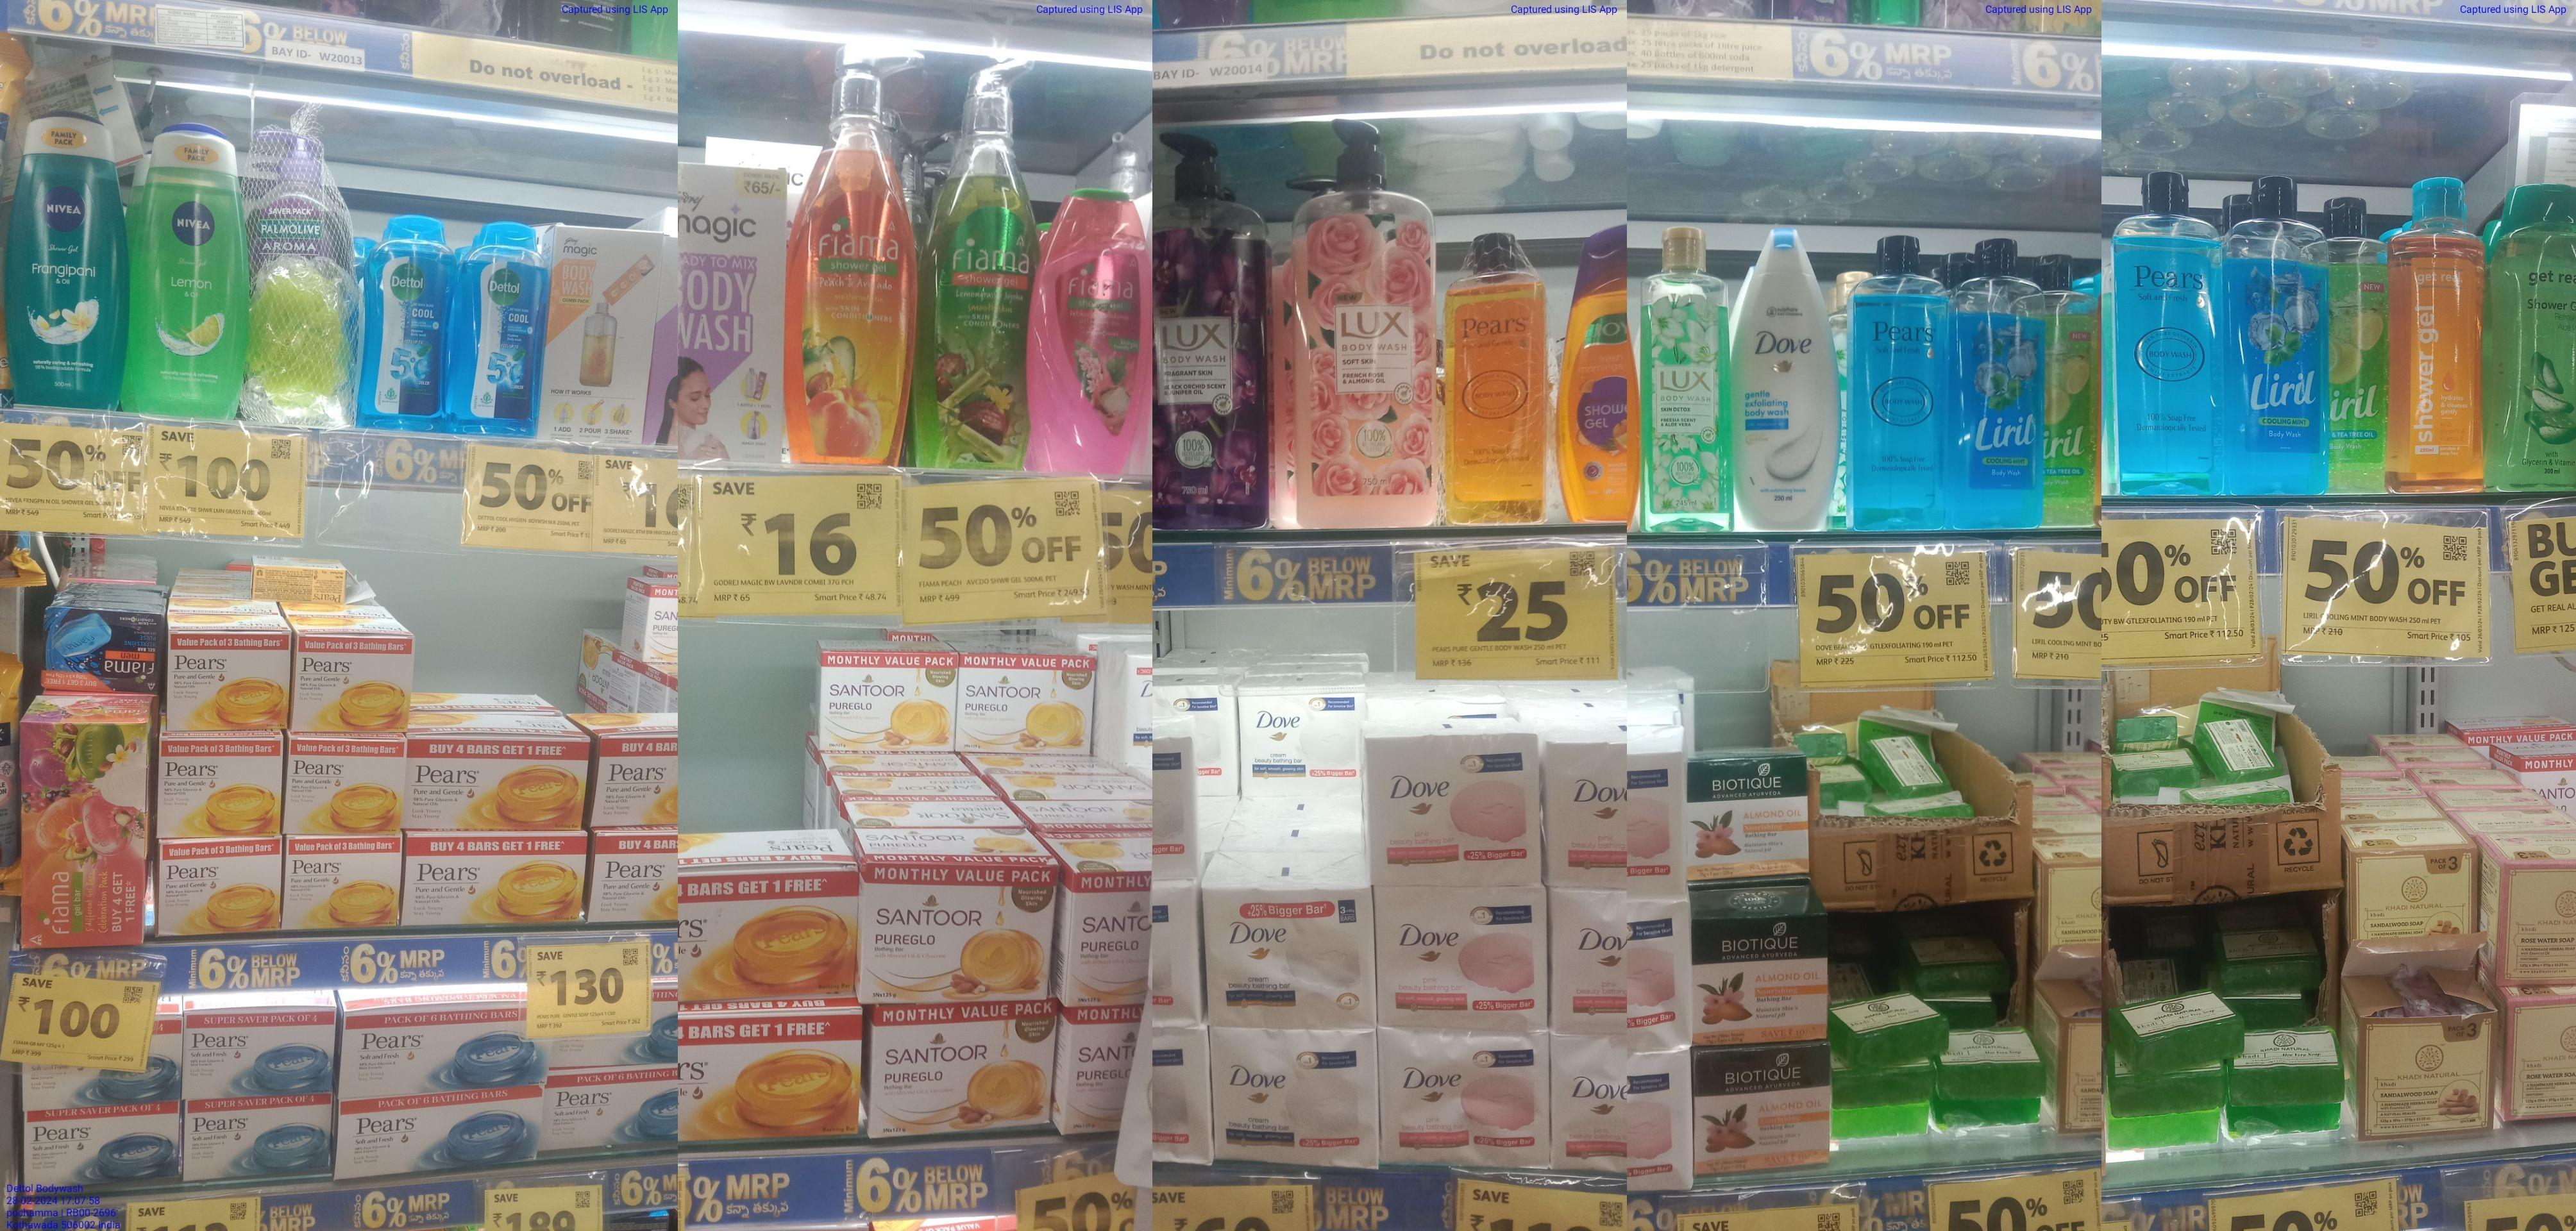Dettol_Bodywash_Cool: (458, 217, 539, 437), (371, 210, 447, 432)
Dove_Gentle_Exfoliating_Body_Wash_250ML: (1733, 222, 1840, 531)
Fiama_Shower_Gel_Patchouli_and_Macadamia_250ML: (1037, 178, 1153, 483)
Liril_Cooling_Mint_Body_Wash_250ML: (2228, 174, 2326, 498), (1957, 237, 2039, 539)
Lux_Body_Wash_Skin_Detox_Freesia_Scent_and_Alove_Vera_245ML: (1640, 219, 1730, 533)
Nivea_Shower_Gel_Frangipani_and_Oil_250ML: (11, 108, 123, 408)
Nivea_Shower_Gel_Lemon_and_Oil_250ML: (136, 123, 246, 416)
Pears_Pure_Glycerin_and_Mint_Extracts_Body_Wash_250ML: (2118, 166, 2226, 496), (1853, 233, 1947, 531)
